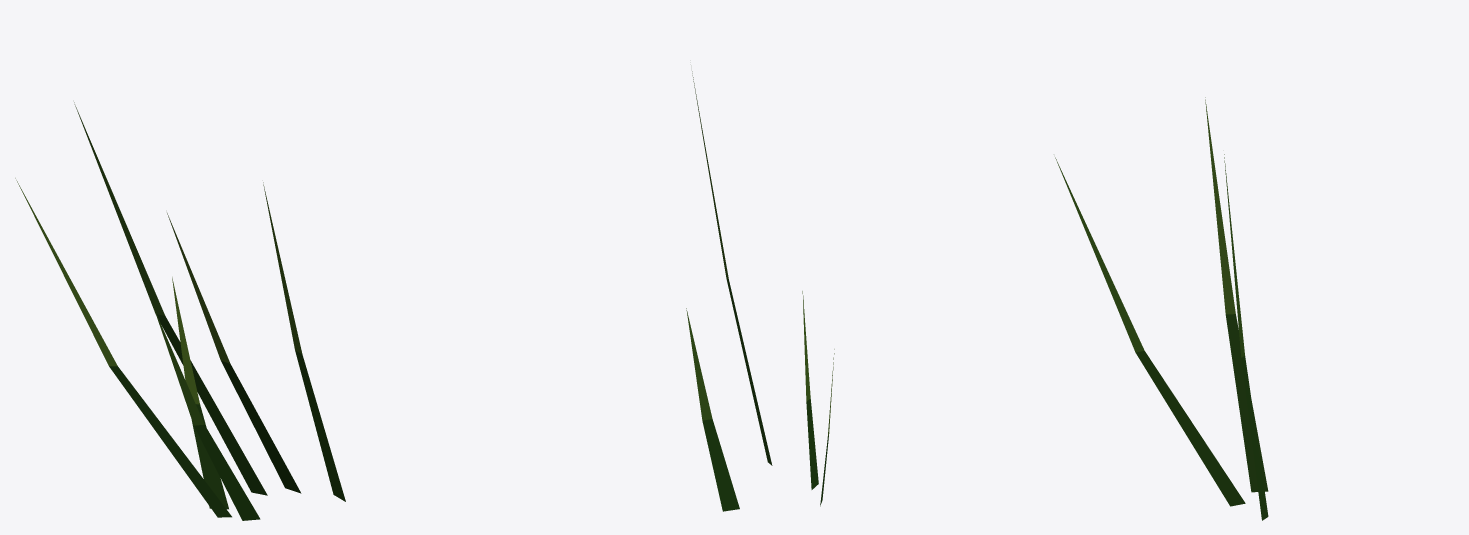
File: GrassShort.glb
3 renders of one model, left to right at view 1: azimuth 30°, elevation 25°; view 2: azimuth 150°, elevation 25°; view 3: azimuth 270°, elevation 25°, orthographic. The views are drawn at different scales.
Parts seen in each view (by area): view 1: GrassShort; view 2: GrassShort; view 3: GrassShort.
Part boxes in pixels (left/top/right/bottom): GrassShort: left=15, top=102, right=345, bottom=520; GrassShort: left=686, top=71, right=834, bottom=511; GrassShort: left=1055, top=97, right=1268, bottom=520.
Bounding box in the file's own units: 0.9804 × 0.886 × 0.7578.
